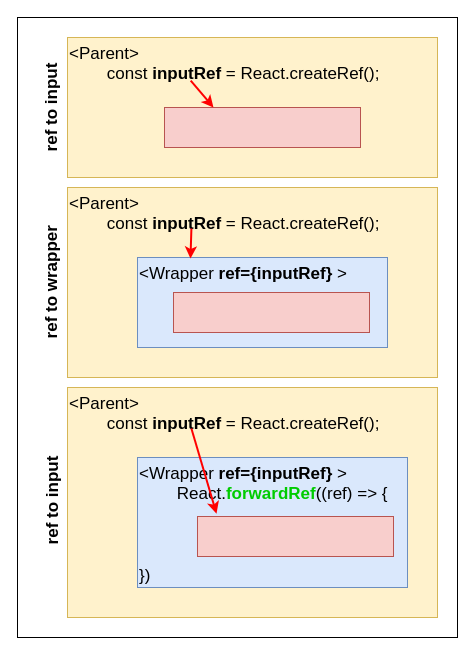
Some shapes in this 475 by 655 pixel diagram are drawn without their labels. The centre of each missing label's shape, as x and y in pixels:
<input / >: [271,312]
<input ref={ inputRef } / >: [262,127]
<input ref={ref } / >: [295,536]
